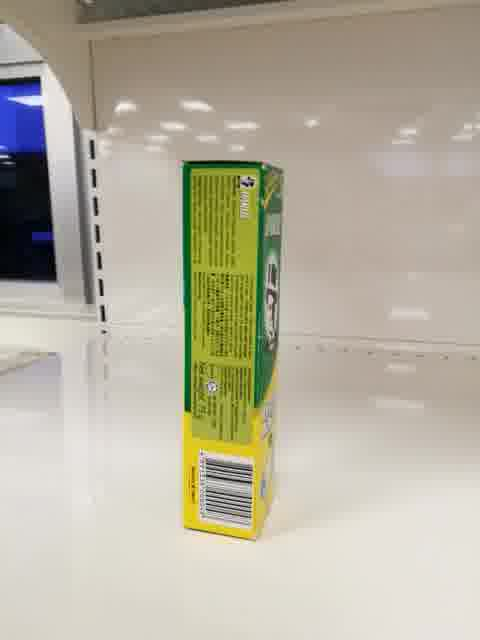toothpaste: (182, 160, 283, 544)
